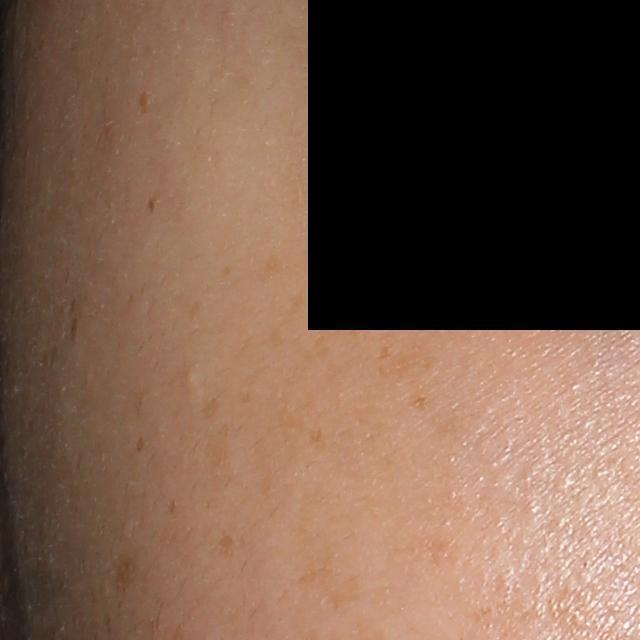comedo: (184, 369, 200, 388)
melasma: (97, 545, 145, 633), (210, 527, 245, 562), (131, 427, 151, 459), (135, 87, 155, 116), (145, 194, 161, 216)
